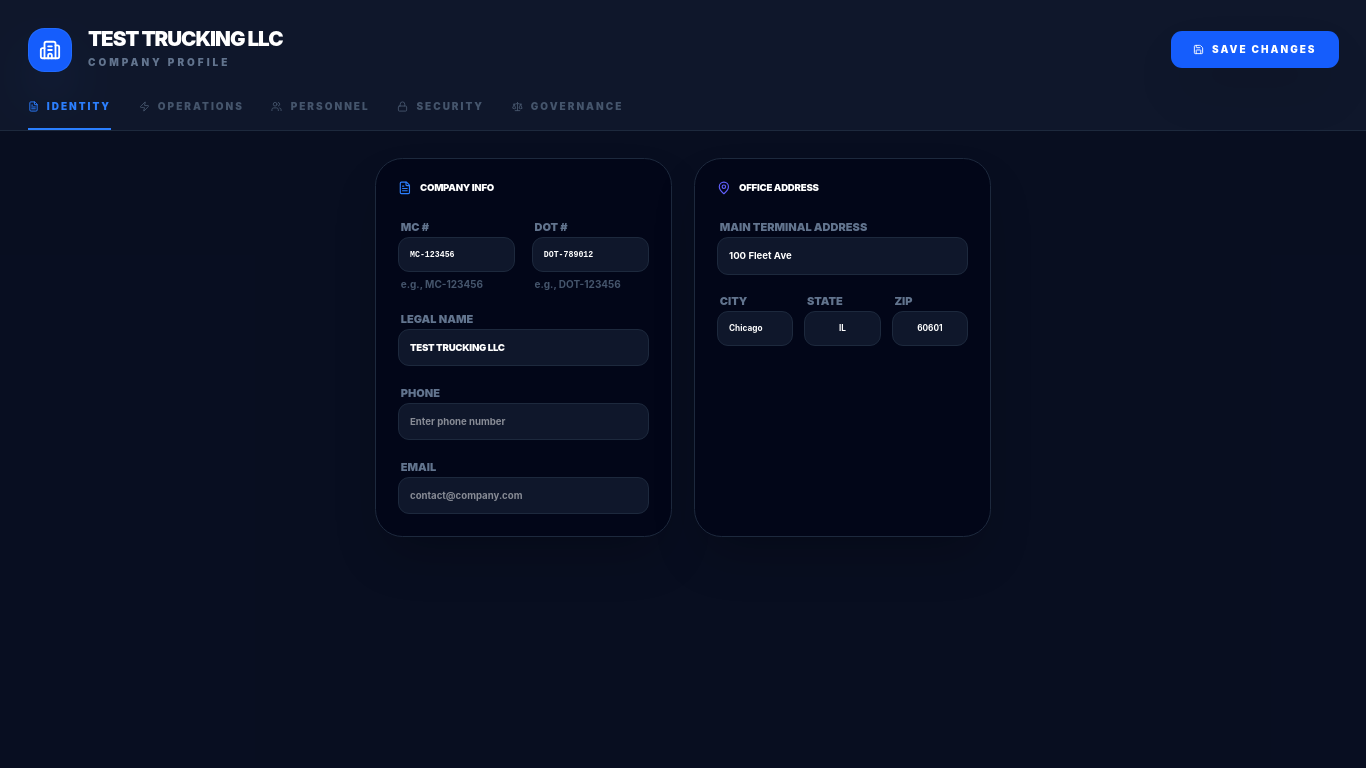
Test: CompanyProfile component › Operations tab › renders Fleet Configuration section
This screenshot has width=1366, height=768.
Click the button "Operations" at [191, 114], box [139,99,244,130]
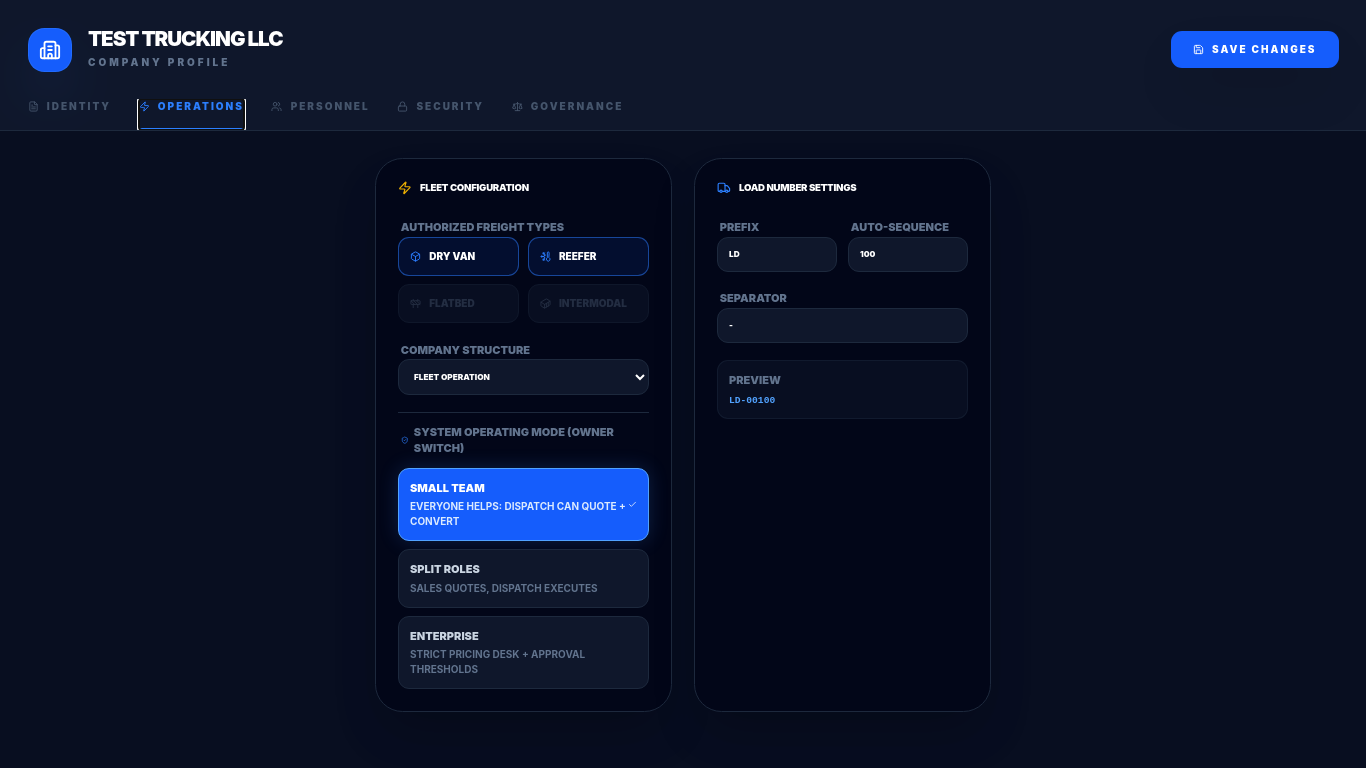
Check: the heading "Fleet Configuration" is shown, box [398,181,529,195]
